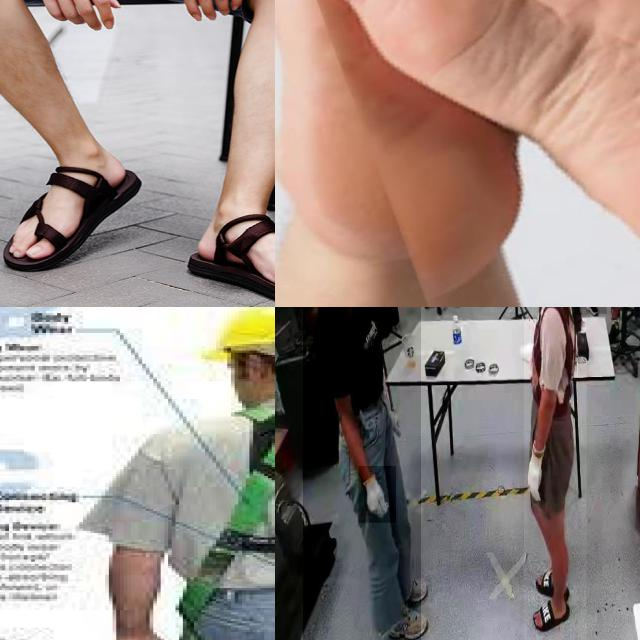Barefoots: (295, 0, 640, 307)
Harness: (173, 405, 275, 640)
Sandals: (2, 142, 142, 271), (186, 163, 275, 307)
hand_glove: (358, 466, 396, 524), (522, 440, 554, 502)
person: (302, 307, 421, 640), (524, 307, 587, 640)
shoes: (384, 602, 429, 640), (394, 566, 429, 608)
